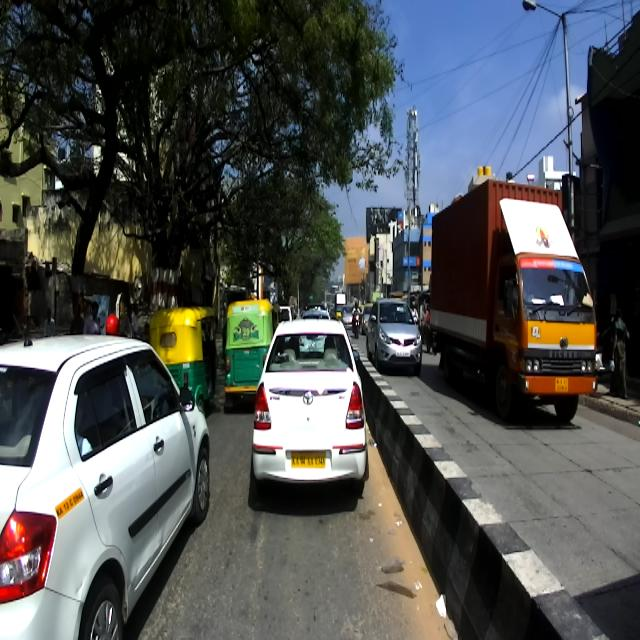car ahead at: (0, 320, 212, 640), (248, 310, 370, 509), (377, 296, 423, 365)
truck ahead at: (426, 185, 602, 414)
